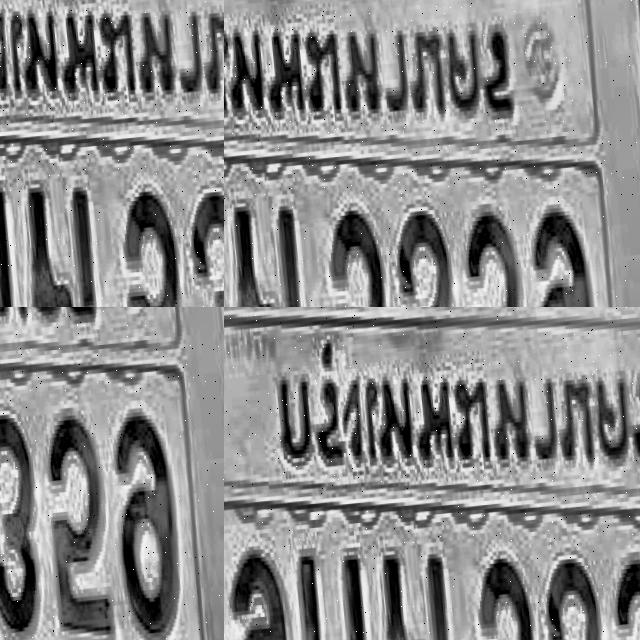license-plate: (224, 307, 640, 640)
